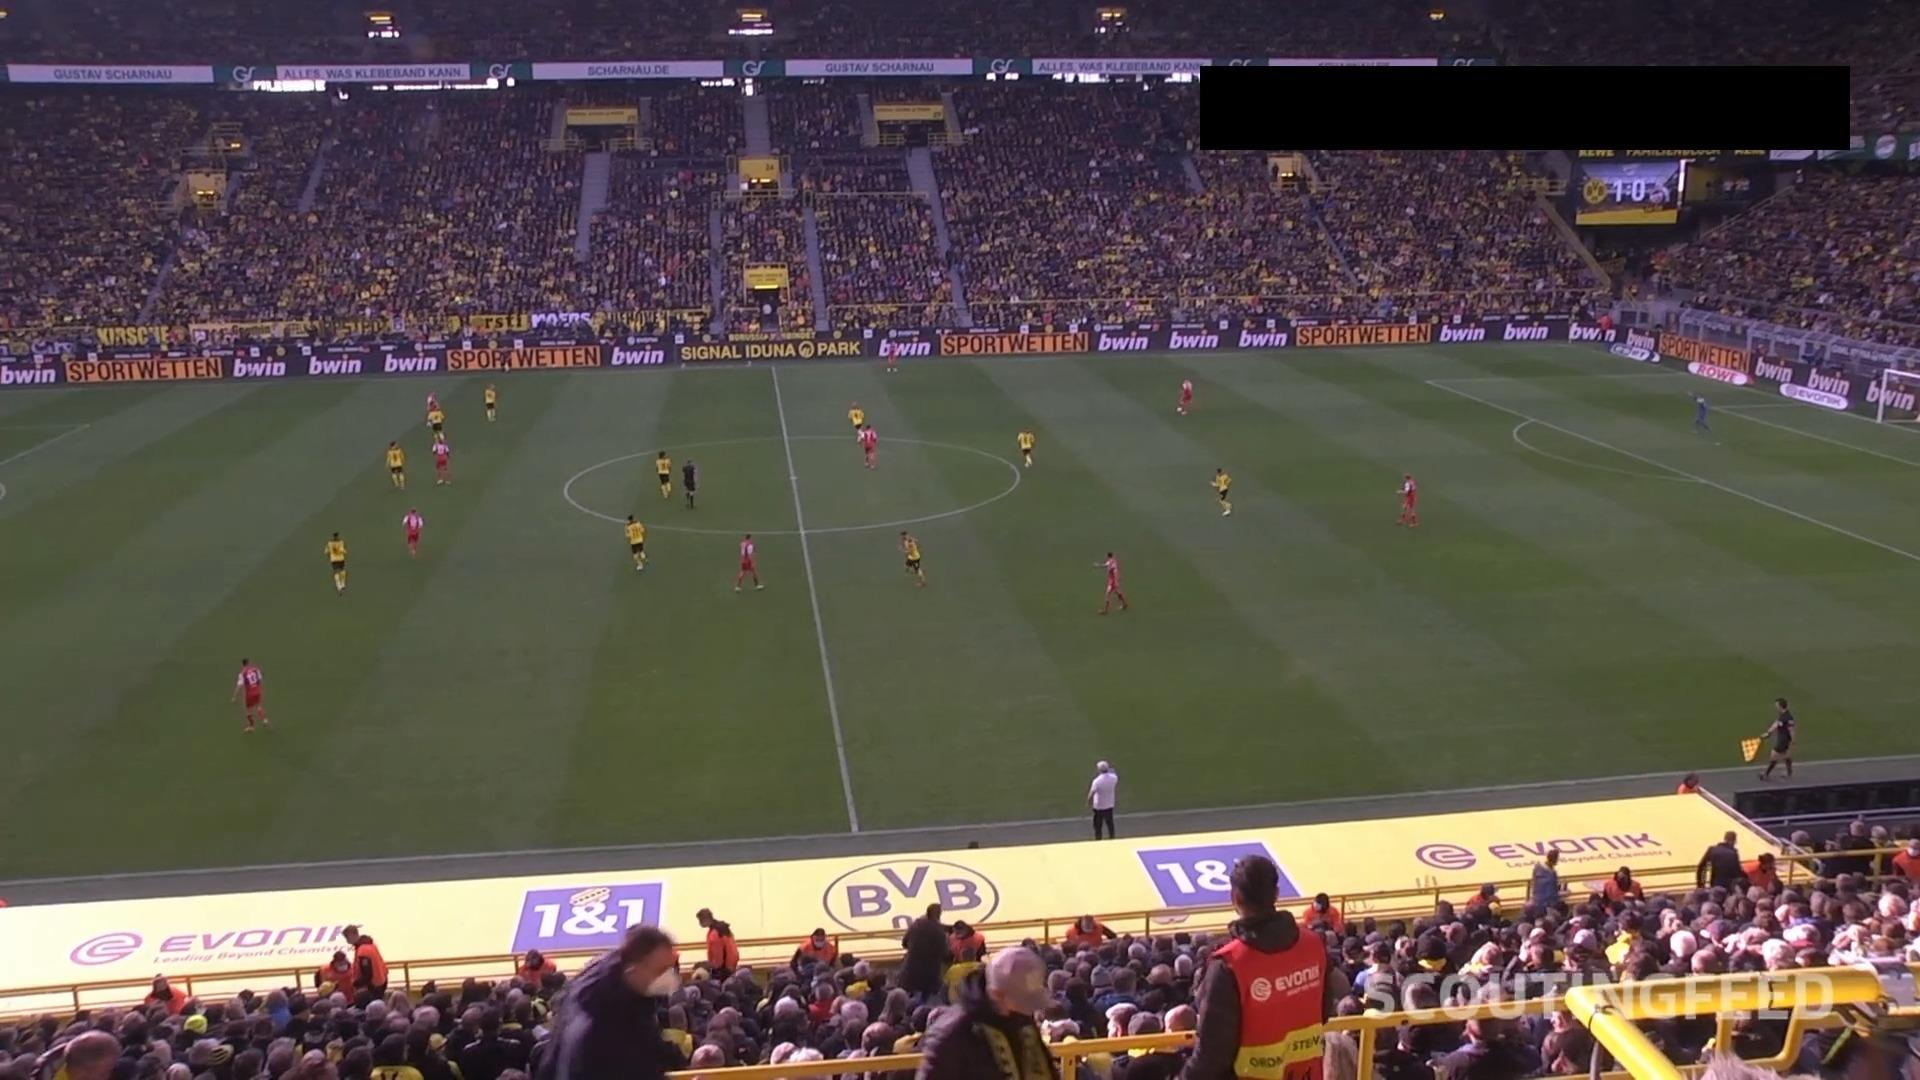ball: (1175, 405, 1183, 414)
